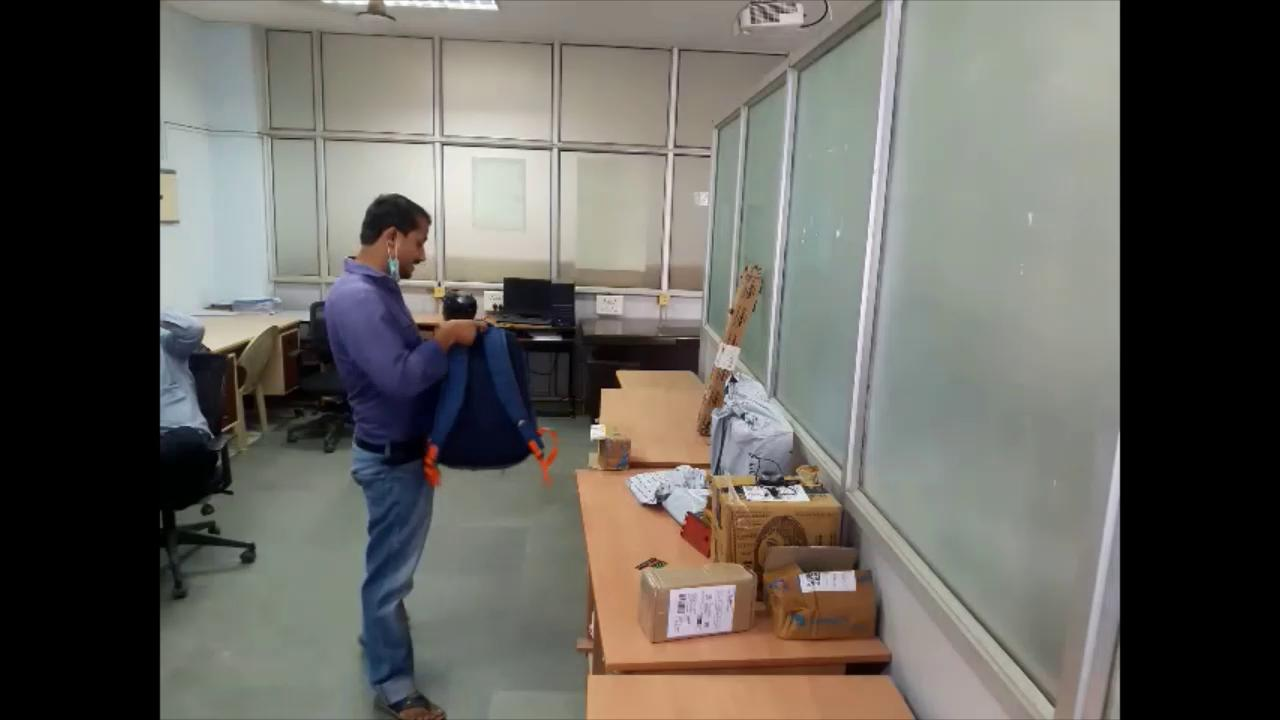shoplifting: (307, 183, 544, 711)
